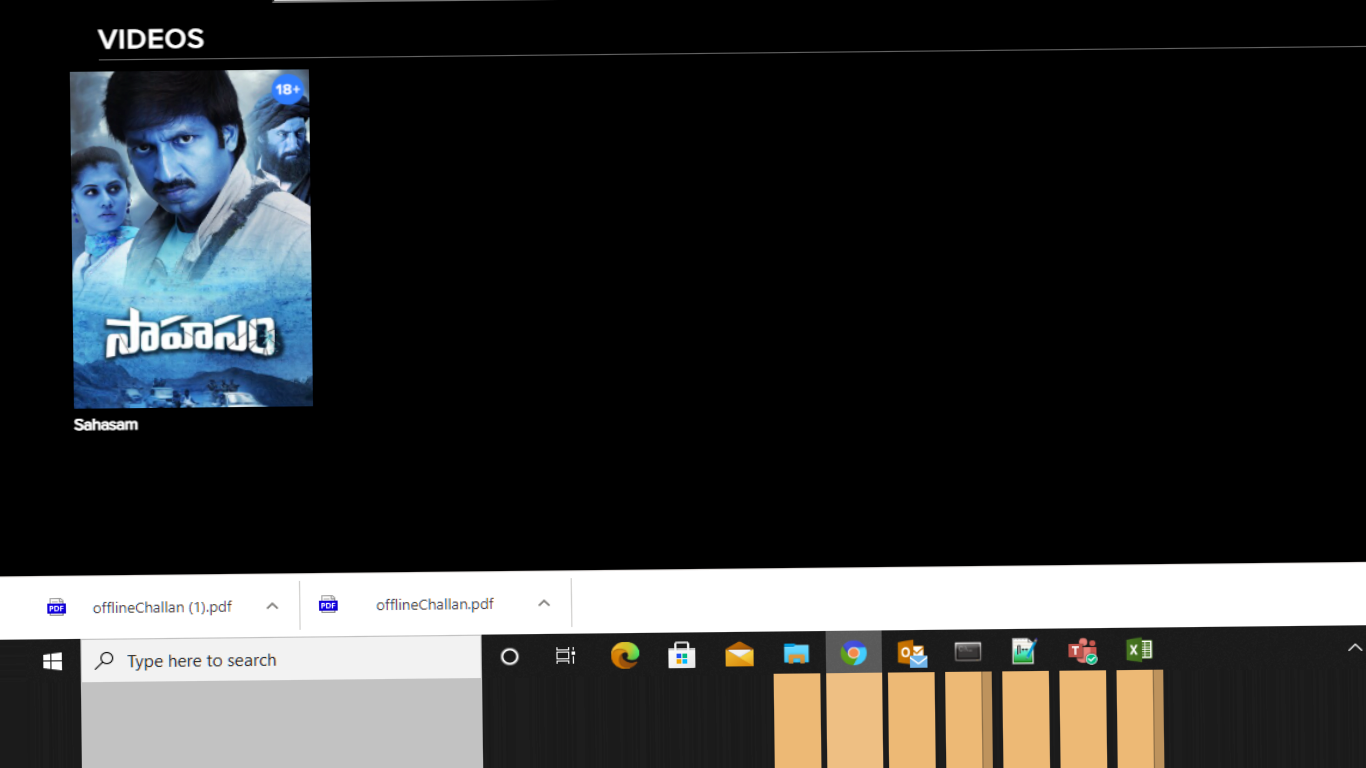resultsfound: (83, 12, 1337, 66)
